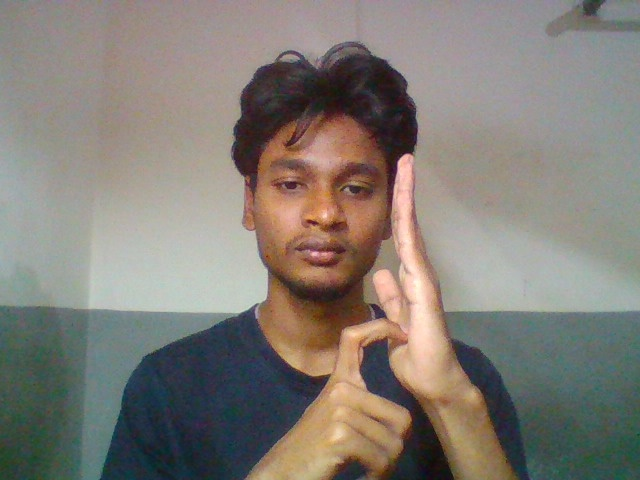H: (309, 143, 492, 480)
